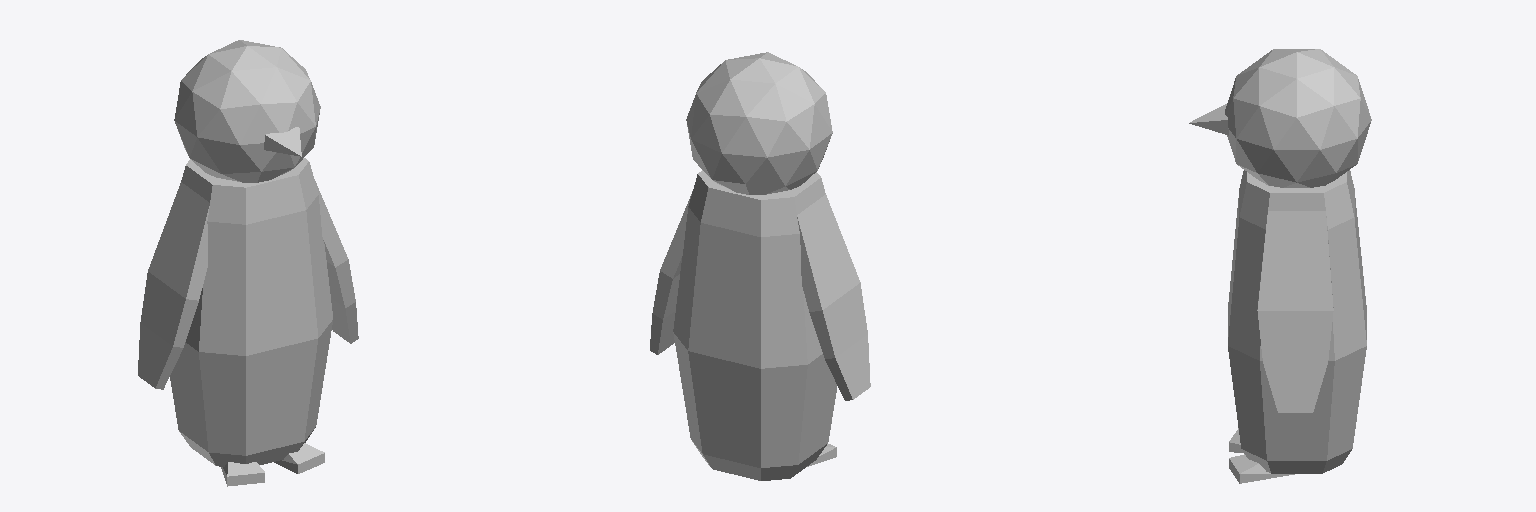
Rendered from penguinFull.obj.
3 renders of one model, left to right at view 1: azimuth 30°, elevation 25°; view 2: azimuth 150°, elevation 25°; view 3: azimuth 270°, elevation 25°, orthographic.
Parts seen in each view (by area): view 1: Body, Head, Left_Wing, Right_Wing, Right_Foot, Left_Foot, Beak; view 2: Body, Head, Left_Wing, Right_Wing; view 3: Body, Head, Right_Wing, Left_Foot, Beak.
Boxes of the visible parts, x1,y1,x2,y2 form: Body: [170, 158, 332, 466]; Head: [174, 40, 320, 182]; Left_Wing: [138, 182, 209, 389]; Right_Wing: [314, 179, 358, 343]; Right_Foot: [221, 462, 264, 486]; Left_Foot: [274, 443, 324, 473]; Beak: [264, 127, 301, 156]; Body: [673, 170, 836, 480]; Head: [686, 52, 832, 194]; Left_Wing: [797, 194, 870, 400]; Right_Wing: [650, 191, 692, 354]; Body: [1228, 170, 1366, 473]; Head: [1225, 49, 1371, 187]; Right_Wing: [1257, 211, 1333, 412]; Left_Foot: [1229, 454, 1294, 483]; Beak: [1189, 104, 1228, 135].
Bounding box in the file's own units: 0.7106 × 1.36 × 0.5564.